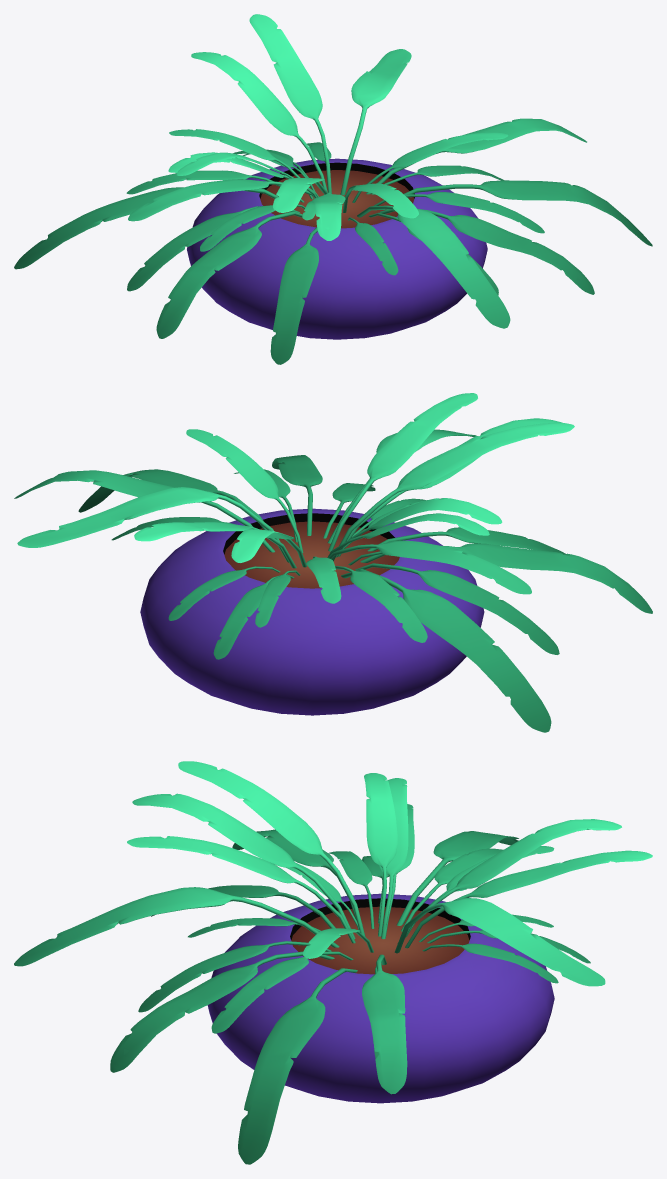
The model's file is Plant 7.fbx.
3 views of the same model, one above another, from view 1: azimuth 30°, elevation 25°; view 2: azimuth 150°, elevation 25°; view 3: azimuth 270°, elevation 25° (orthographic). The views are drawn at different scales.
Visible parts, largest first — view 1: Plant 7, Pot 7; view 2: Plant 7, Pot 7; view 3: Plant 7, Pot 7.
Boxes of the visible parts, box(x1,y1,x2,y2) form: Plant 7: box(14, 14, 652, 364); Pot 7: box(187, 158, 487, 339); Plant 7: box(14, 393, 652, 732); Pot 7: box(140, 508, 484, 715); Plant 7: box(14, 761, 652, 1164); Pot 7: box(207, 893, 554, 1103).
Size of the model in its own units: 268 by 90.89 by 244.
